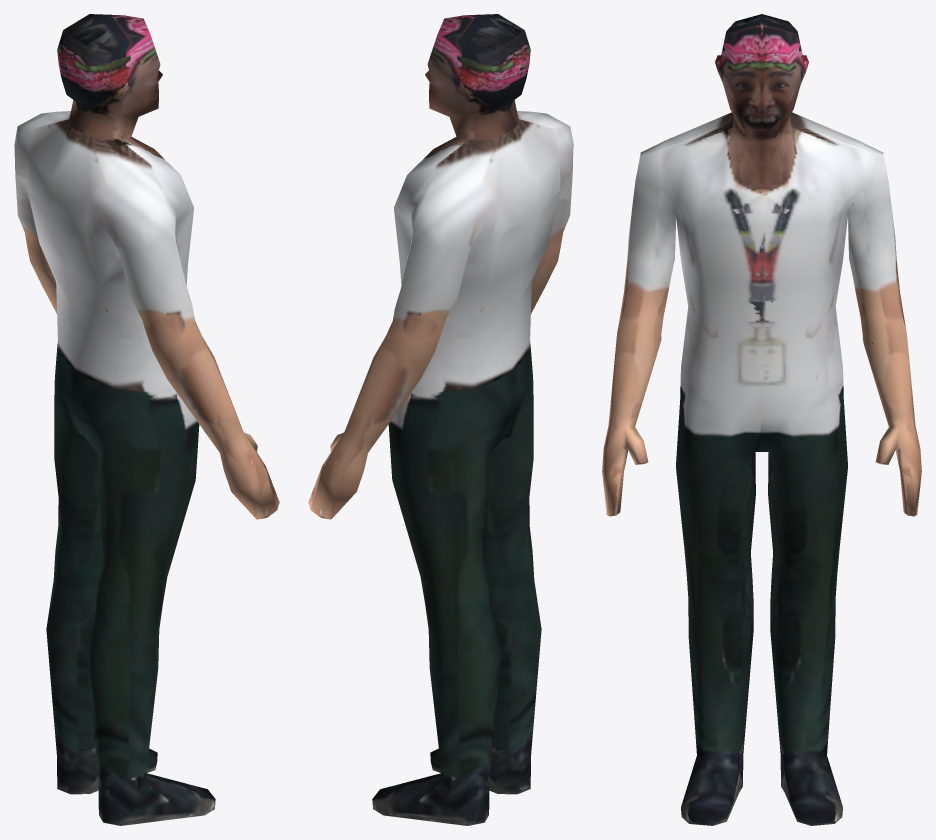
The model's file is renz.fbx.
The picture shows the model from 3 angles, left to right: view 1: azimuth 30°, elevation 25°; view 2: azimuth 150°, elevation 25°; view 3: azimuth 270°, elevation 25°; orthographic projection.
Visible parts, largest first — view 1: jp.001; view 2: jp.001; view 3: jp.001.
Boxes of the visible parts, x1,y1,x2,y2 form: jp.001: (14,14,279,825); jp.001: (308,14,573,825); jp.001: (602,14,921,825).
Size of the model in its own units: 92.32 by 442 by 166.
